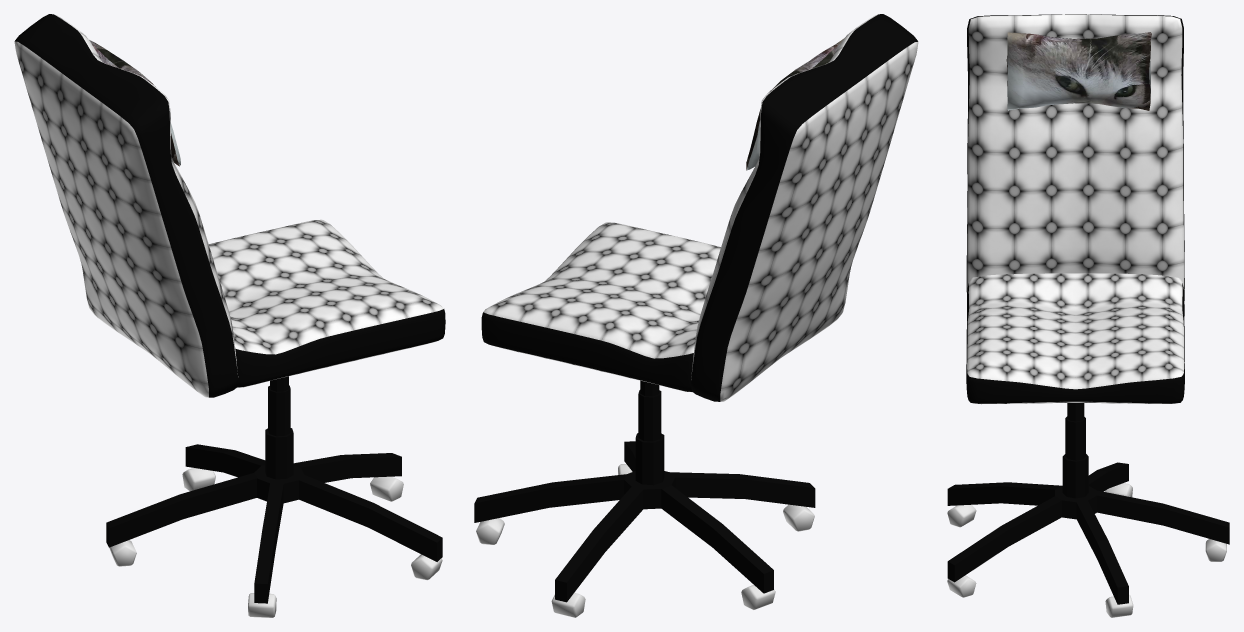
File: DeskChair.fbx
The picture shows the model from 3 angles, left to right: view 1: azimuth 30°, elevation 25°; view 2: azimuth 150°, elevation 25°; view 3: azimuth 270°, elevation 25°; orthographic projection. The views are drawn at different scales.
Parts seen in each view (by area): view 1: Chair.003; view 2: Chair.003; view 3: Chair.003.
Boxes of the visible parts, x1,y1,x2,y2 form: Chair.003: [14, 14, 445, 617]; Chair.003: [474, 14, 918, 617]; Chair.003: [947, 14, 1229, 617].
Size of the model in its own units: 196 by 283 by 154.
